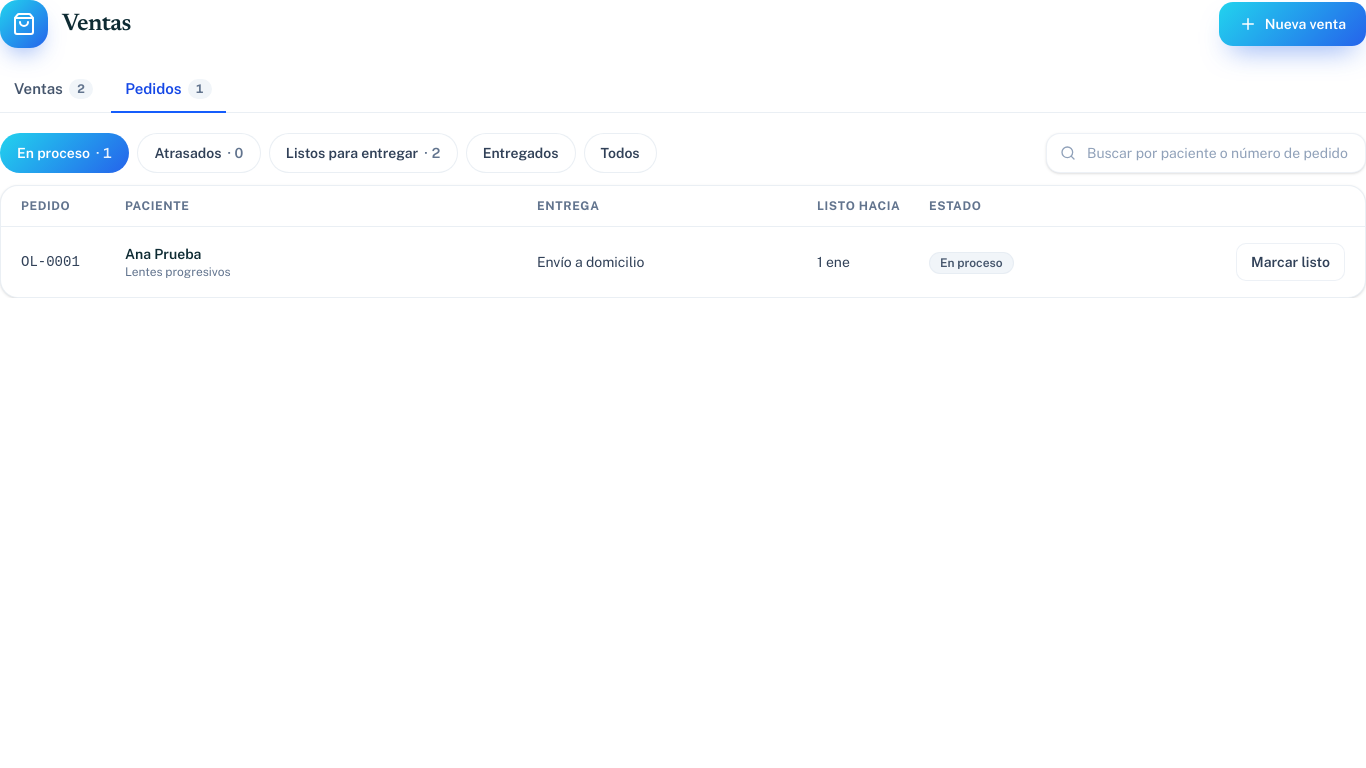
Test case: Ventas — Pedidos › el detalle trae la receta, la venta relacionada, el historial y las acciones
The width and height of the screenshot is (1366, 768).
Click the button "Todos" at (620, 152), box [584,132,657,172]
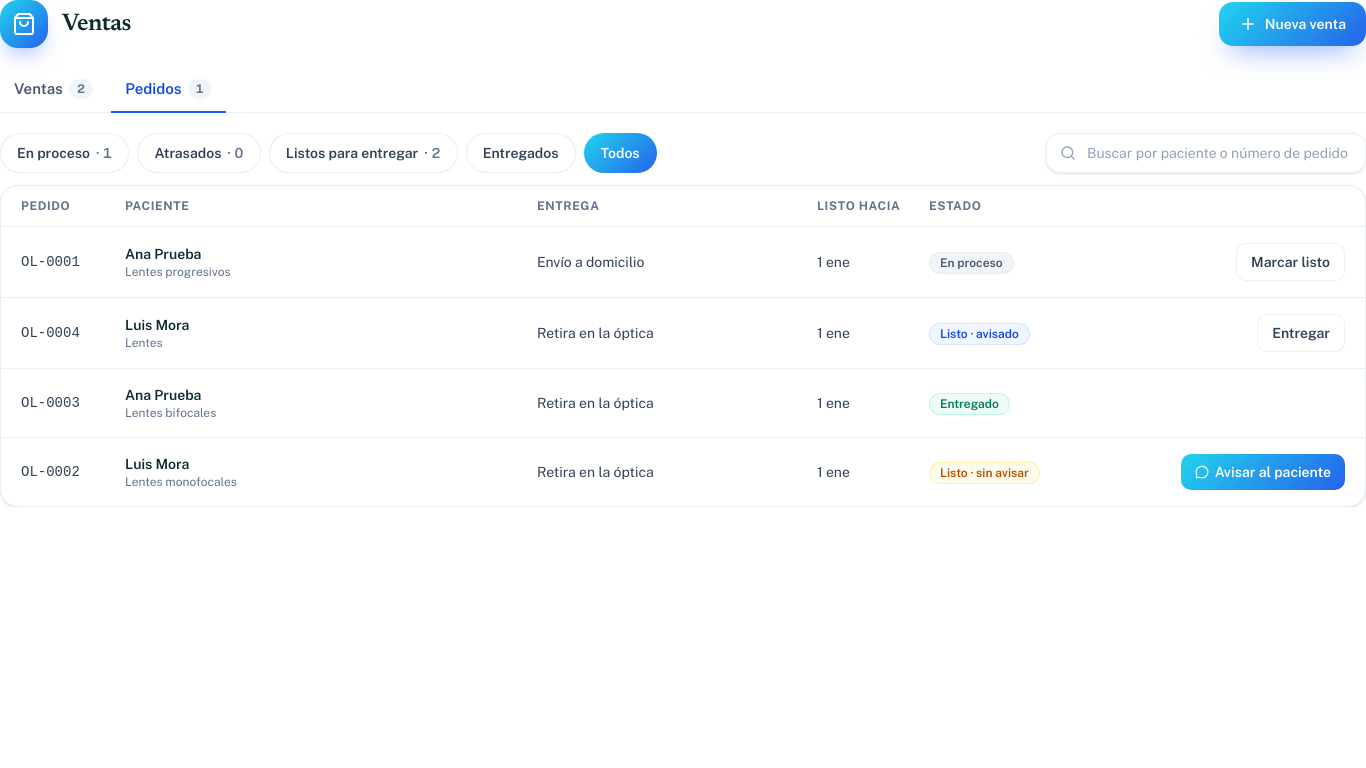
Click the button named "Ver el pedido OL-0002" at (683, 472), box [1,438,1365,506]
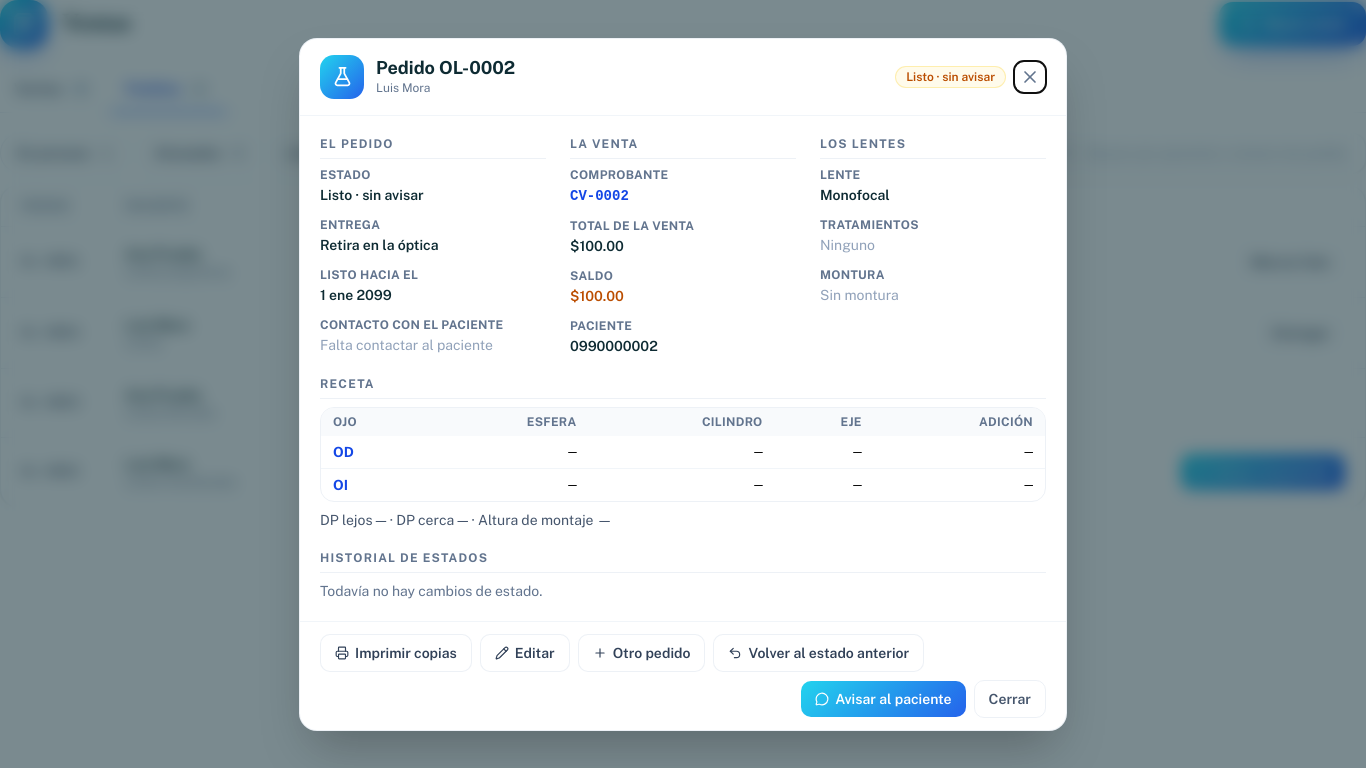
Expected: the button "Imprimir copias" is shown, [320,634,472,672]
Expected: the button "Editar" is shown, [480,634,570,672]
Expected: the button "Otro pedido" is shown, [578,634,705,672]
